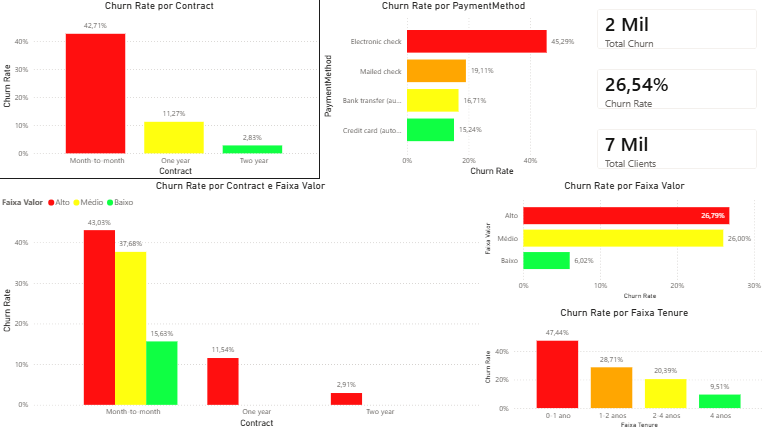

Layout of this report page (visuals, bound fields, positions):
{"tool":"powerbi","page":{"name":"Página 1","canvas":[1280,720],"ordinal":0},"visuals":[{"type":"cardVisual","fields":{"Data":["Telco-Customer-Churn.Total Clients"]},"box":[979.9,200.2,300.2,100.1],"z":0},{"type":"cardVisual","fields":{"Data":["Telco-Customer-Churn.Total Churn"]},"box":[979.9,0,300.2,100.1],"z":1000},{"type":"cardVisual","fields":{"Data":["Telco-Customer-Churn.Churn Rate"]},"box":[979.9,100.1,300.2,100.1],"z":2000},{"type":"columnChart","fields":{"Category":["Telco-Customer-Churn.Contract"],"Y":["Telco-Customer-Churn.Churn Rate"]},"box":[0,0,534.8,300.2],"z":3000},{"type":"barChart","fields":{"Category":["Telco-Customer-Churn.PaymentMethod"],"Y":["Telco-Customer-Churn.Churn Rate"]},"box":[534.8,0,445.1,300.2],"z":4000},{"type":"columnChart","fields":{"Category":["Telco-Customer-Churn.Faixa Tenure"],"Y":["Telco-Customer-Churn.Churn Rate"]},"box":[805.1,510.9,475,209.1],"z":5000},{"type":"clusteredBarChart","fields":{"Category":["Telco-Customer-Churn.Faixa Valor"],"Y":["Telco-Customer-Churn.Churn Rate"]},"box":[805.1,300.2,475,204.6],"z":6000},{"type":"clusteredColumnChart","fields":{"Category":["Telco-Customer-Churn.Contract"],"Series":["Telco-Customer-Churn.Faixa Valor"],"Y":["Telco-Customer-Churn.Churn Rate"]},"box":[0,300.2,805.1,419.8],"z":7000}]}

Visuals, with their boxes in screenshot pixels (x1, y1, x2, y2), scaled from the page's 1280x720 canvas onto the 763x431 screenshot:
cardVisual - Telco-Customer-Churn.Total Clients: (584,120,762,180)
cardVisual - Telco-Customer-Churn.Total Churn: (584,0,762,60)
cardVisual - Telco-Customer-Churn.Churn Rate: (584,60,762,120)
columnChart - Telco-Customer-Churn.Contract x Telco-Customer-Churn.Churn Rate: (0,0,319,180)
barChart - Telco-Customer-Churn.PaymentMethod x Telco-Customer-Churn.Churn Rate: (319,0,584,180)
columnChart - Telco-Customer-Churn.Faixa Tenure x Telco-Customer-Churn.Churn Rate: (480,306,762,430)
clusteredBarChart - Telco-Customer-Churn.Faixa Valor x Telco-Customer-Churn.Churn Rate: (480,180,762,302)
clusteredColumnChart - Telco-Customer-Churn.Contract x Telco-Customer-Churn.Faixa Valor: (0,180,480,430)
